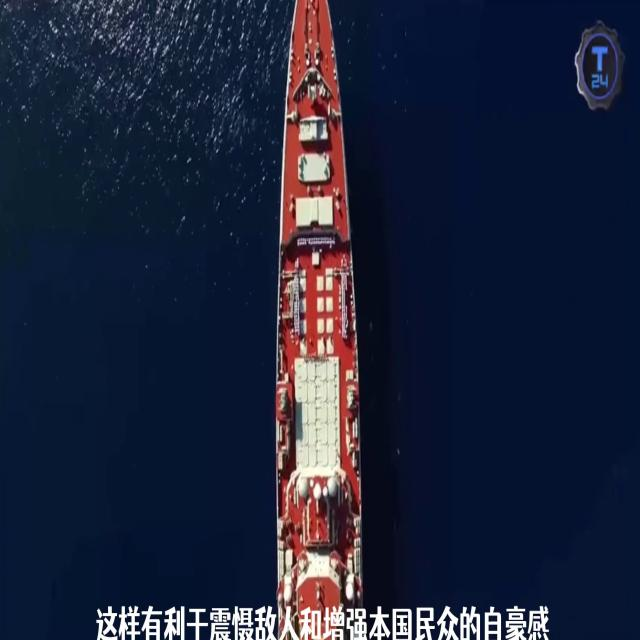navalvessels: (259, 0, 367, 640)
